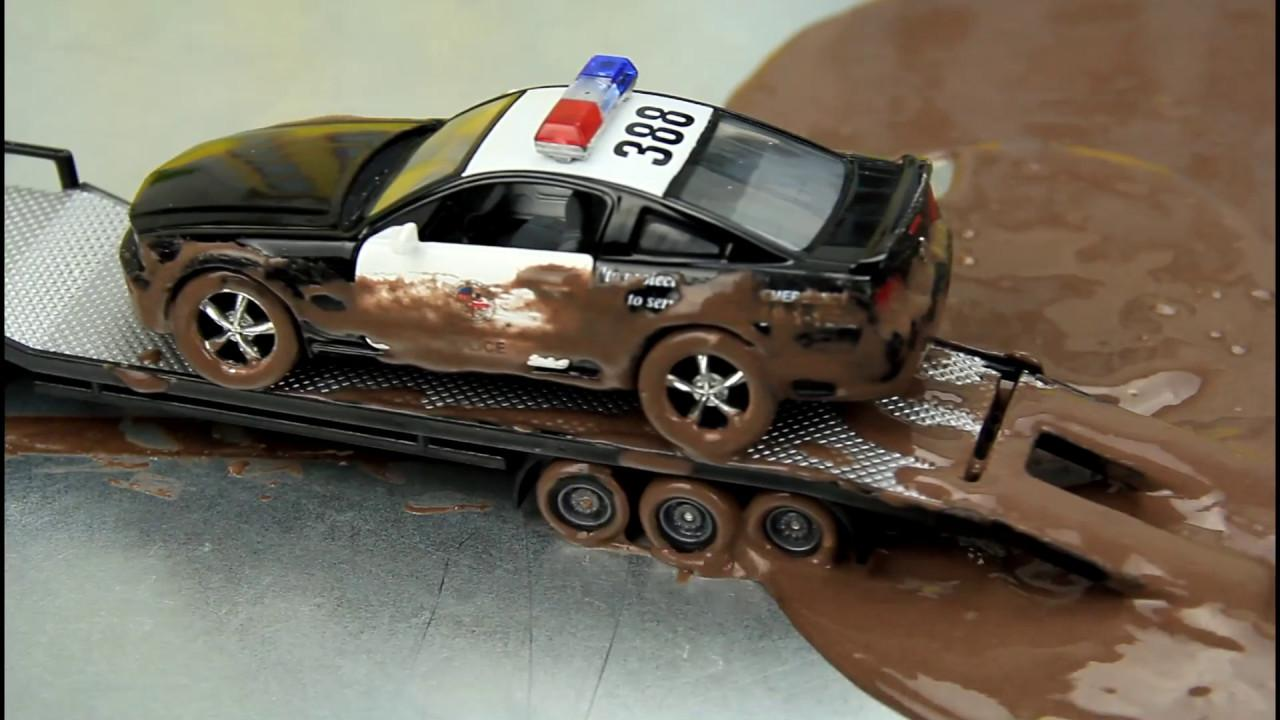car: (117, 50, 1032, 467)
